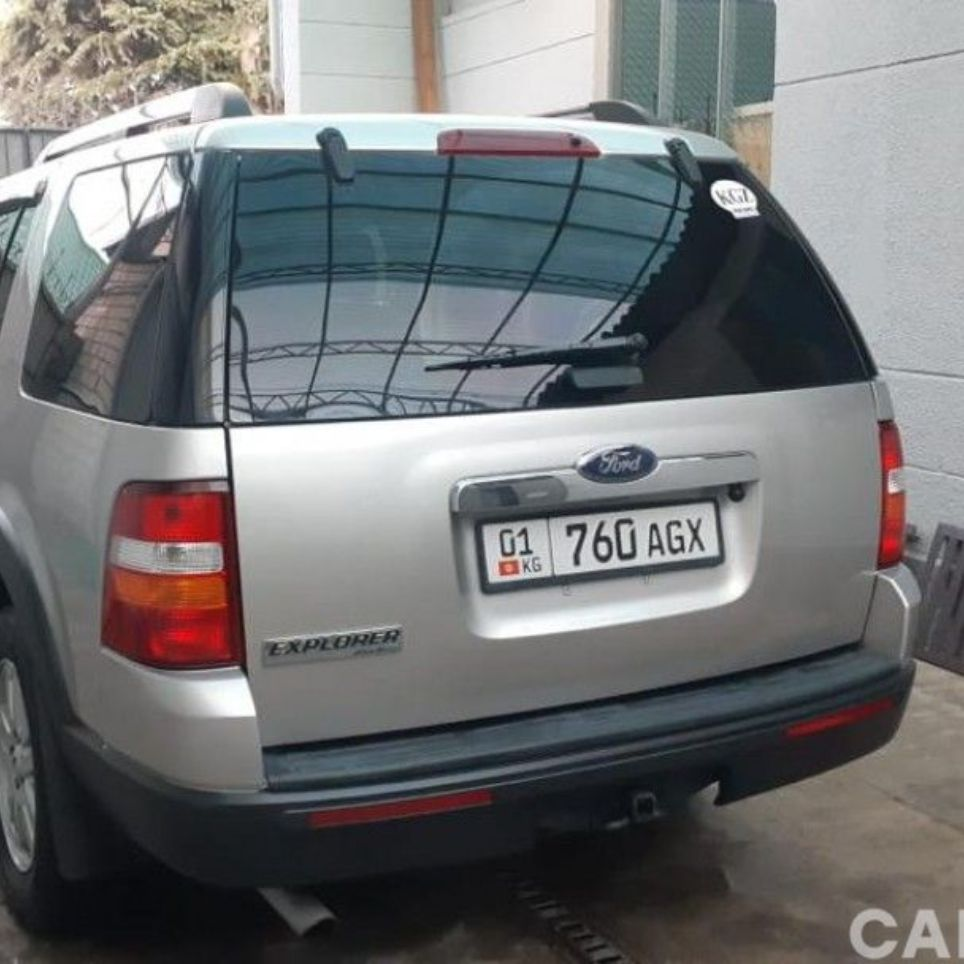license plate: (479, 502, 724, 587)
truck: (12, 117, 925, 835)
